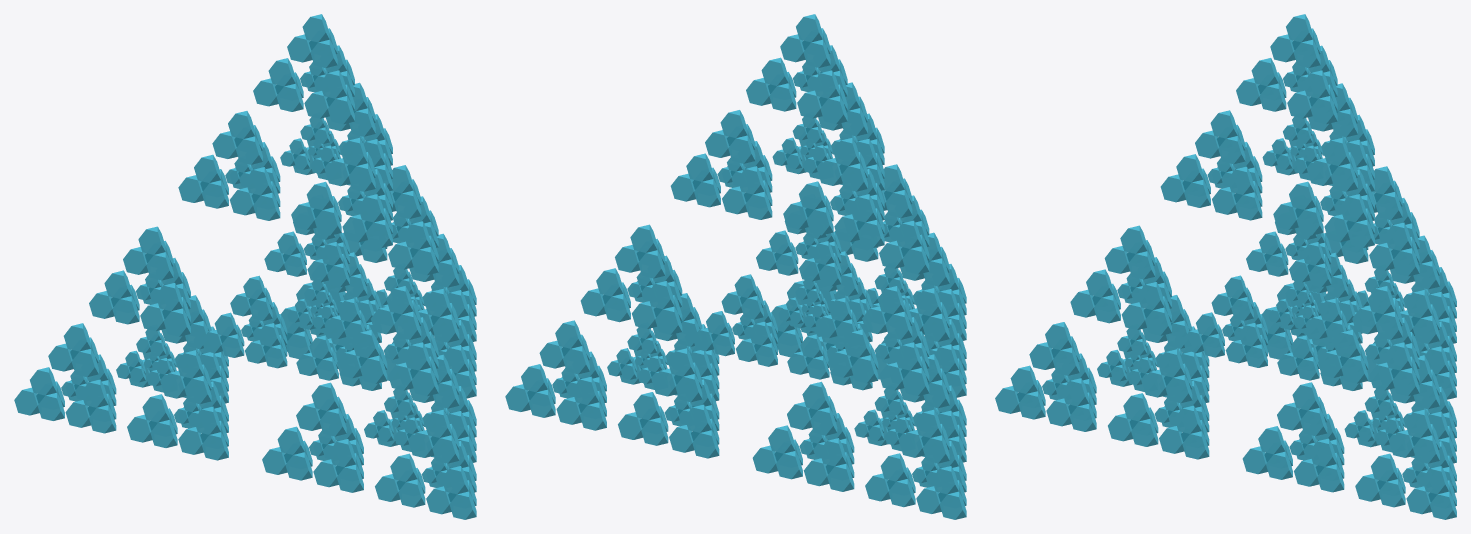
The model's file is fractaltruncatedtetrahedron4.glb.
3 views of the same model, side by side, from view 1: azimuth 30°, elevation 25°; view 2: azimuth 150°, elevation 25°; view 3: azimuth 270°, elevation 25° (orthographic).
Size of the model in its own units: 8.4 by 6.88 by 7.33.
